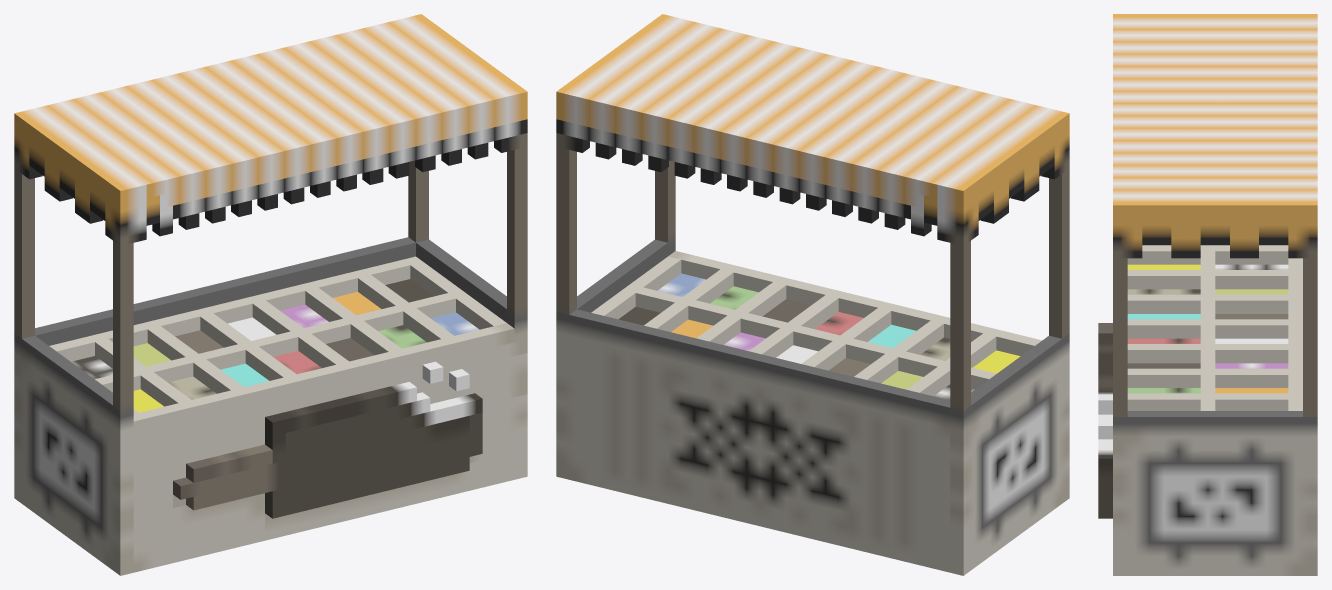
File: icecreamstand.obj
3 views of the same model, side by side, from view 1: azimuth 30°, elevation 25°; view 2: azimuth 150°, elevation 25°; view 3: azimuth 270°, elevation 25° (orthographic). The views are drawn at different scales.
Visible parts, largest first — view 1: Box_41; view 2: Box_41; view 3: Box_41.
Part boxes in pixels (x1=…): Box_41: x1=14, y1=14, x2=527, y2=575; Box_41: x1=556, y1=14, x2=1069, y2=575; Box_41: x1=1098, y1=14, x2=1317, y2=575.
Size of the model in its own units: 31 by 28 by 15.
Materials: 1 (1 with a texture image).
